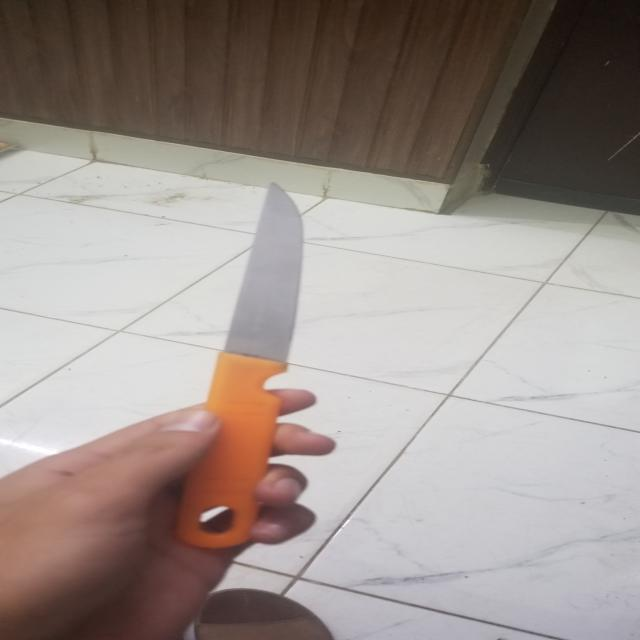knife: (145, 179, 324, 548)
